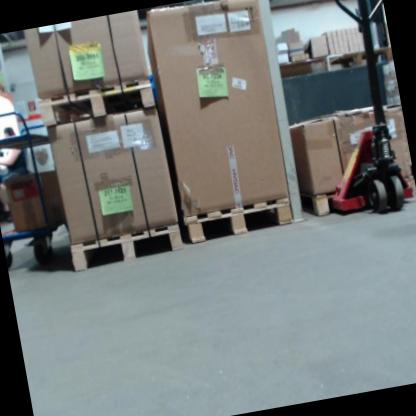pallet: (36, 74, 157, 129), (181, 195, 295, 245), (68, 222, 184, 271), (300, 192, 331, 216)
pallet_truck: (289, 0, 416, 224)
